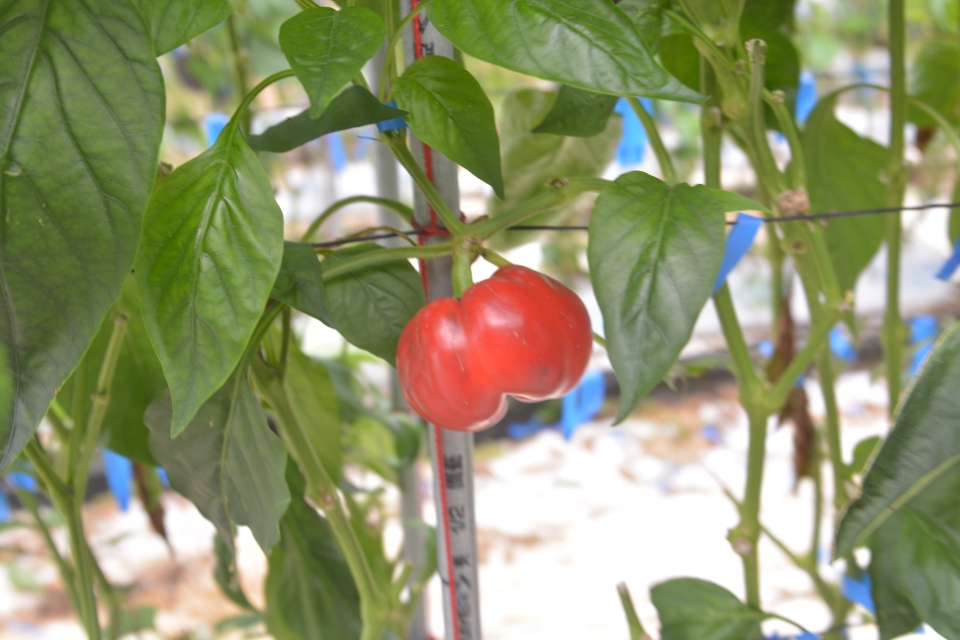fruit: (392, 260, 596, 436)
